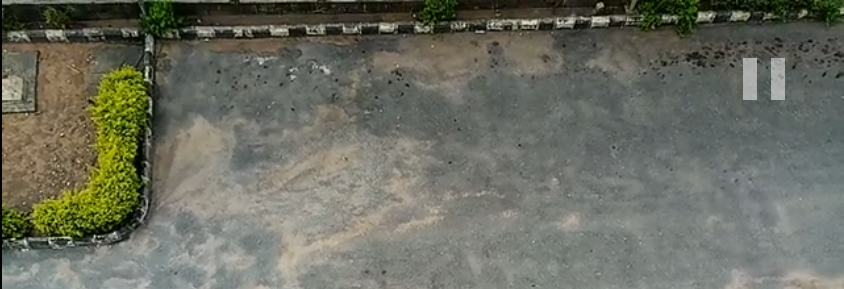one: (123, 1, 298, 230)
three: (519, 3, 647, 226)
two: (337, 1, 474, 227)
